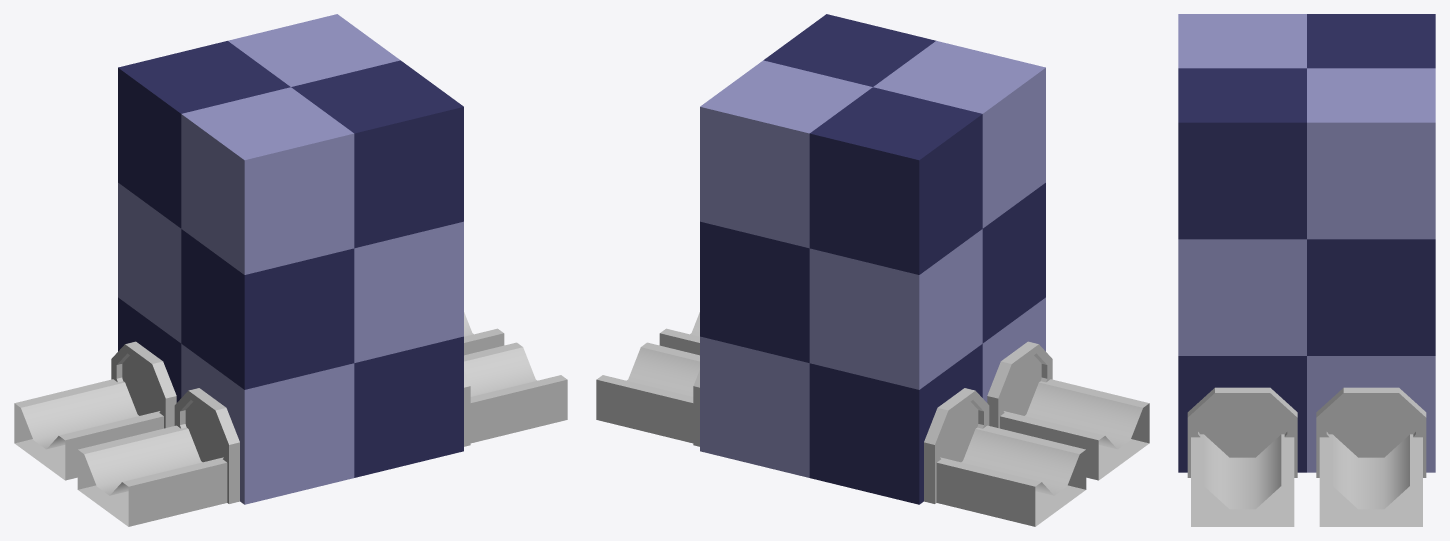
File: SmallStorage_StorageLooseMini.obj
3 views of the same model, side by side, from view 1: azimuth 30°, elevation 25°; view 2: azimuth 150°, elevation 25°; view 3: azimuth 270°, elevation 25° (orthographic).
Size of the model in its own units: 8 by 6 by 4.
